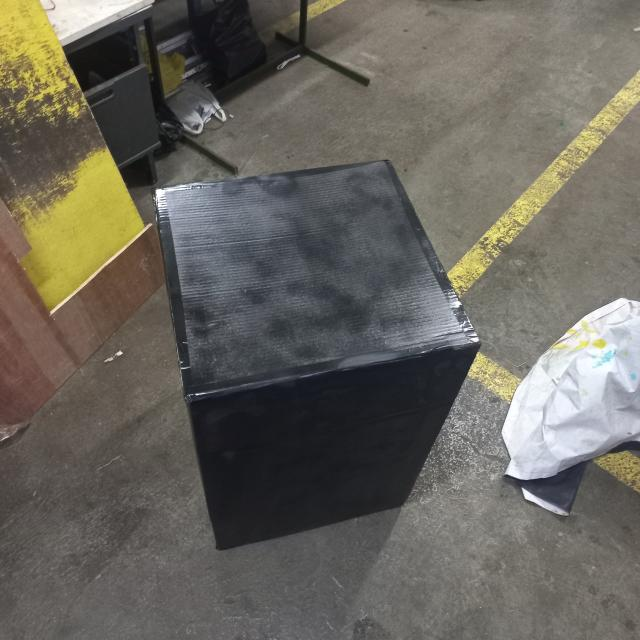obstacle: (154, 152, 482, 555)
